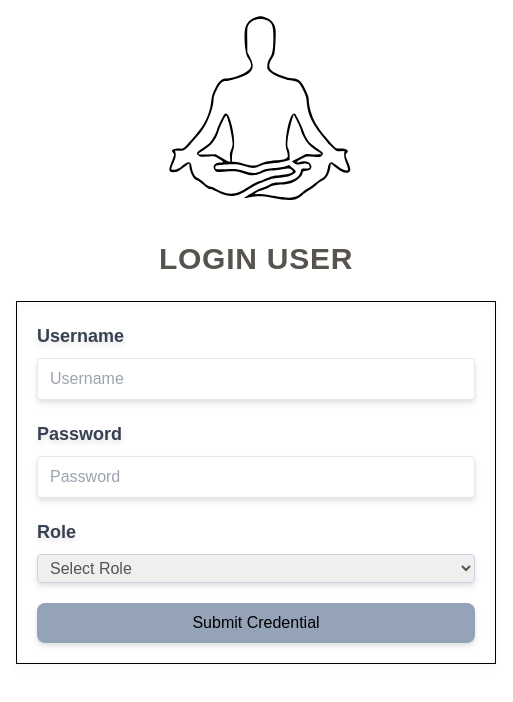
it: login-page › render otp › renders otp field when role is "devotee"
This screenshot has width=513, height=702.
Select "Devotee" in the dropdown labelled "Role": (256, 568) [37, 554, 475, 583]
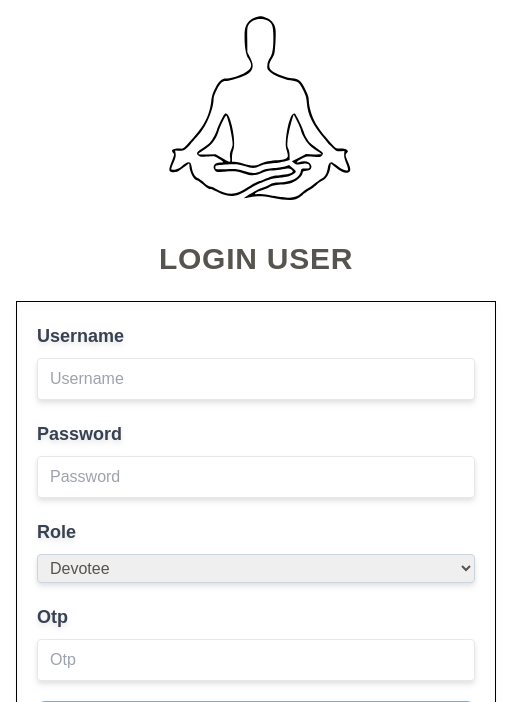
Result: the field labelled "Otp" is shown at [37, 639, 475, 681]
